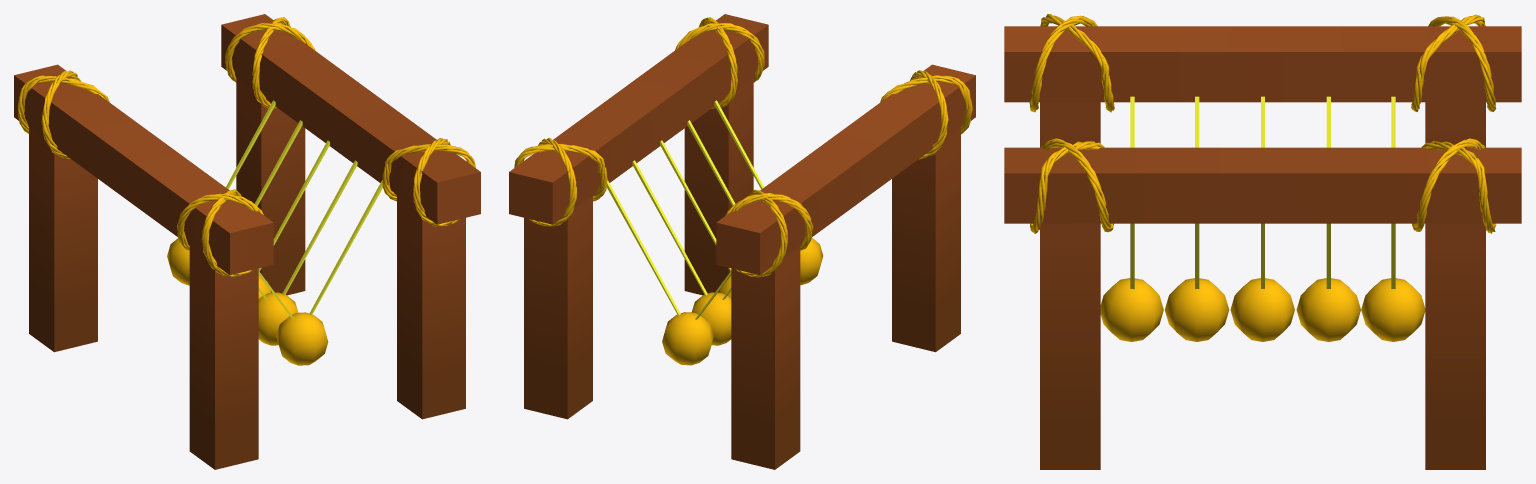
The model's file is island9.defense1.fbx.
3 views of the same model, side by side, from view 1: azimuth 30°, elevation 25°; view 2: azimuth 150°, elevation 25°; view 3: azimuth 270°, elevation 25° (orthographic). The views are drawn at different scales.
Visible parts, largest first — view 1: island9-defense1, island9-defense1.01, island9-defense1.02, island9-defense1.05, island9-defense1.03; view 2: island9-defense1, island9-defense1.05, island9-defense1.04, island9-defense1.01, island9-defense1.03; view 3: island9-defense1, island9-defense1.02, island9-defense1.05, island9-defense1.04, island9-defense1.01, island9-defense1.03.
Part boxes in pixels (x1,y1,x2,y2): island9-defense1: (14, 14, 480, 469); island9-defense1.01: (258, 180, 382, 365); island9-defense1.02: (258, 160, 357, 345); island9-defense1.05: (167, 100, 275, 285); island9-defense1.03: (258, 140, 329, 298); island9-defense1: (509, 14, 975, 469); island9-defense1.05: (606, 180, 731, 365); island9-defense1.04: (632, 160, 731, 345); island9-defense1.01: (714, 100, 823, 285); island9-defense1.03: (660, 140, 731, 298); island9-defense1: (1004, 14, 1521, 469); island9-defense1.02: (1164, 96, 1229, 341); island9-defense1.05: (1361, 96, 1425, 341); island9-defense1.04: (1296, 96, 1360, 341); island9-defense1.01: (1100, 96, 1163, 341); island9-defense1.03: (1230, 96, 1294, 341).
Size of the model in its own units: 3.34 by 3.05 by 4.54.
Materials: 1 (1 with a texture image).
